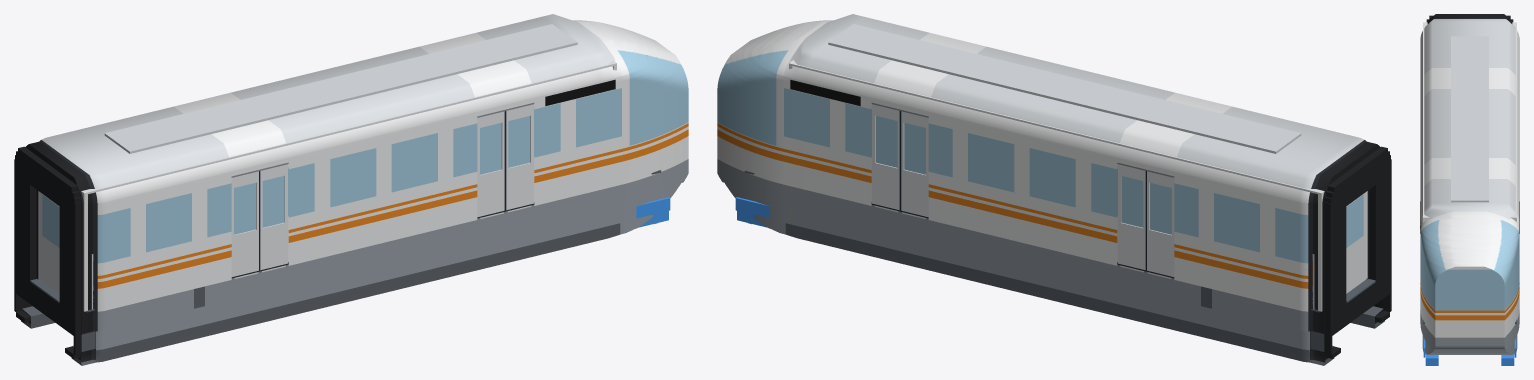
The model's file is linimo_front.obj.
The picture shows the model from 3 angles, left to right: view 1: azimuth 30°, elevation 25°; view 2: azimuth 150°, elevation 25°; view 3: azimuth 270°, elevation 25°; orthographic projection. The views are drawn at different scales.
Visible parts, largest first — view 1: SHELL, SHELL_roof, SHELL_diaphragm, EXTERNAL_DOOR_9_CG_DR2_TOGGLE_TL_-0.59_X, EXTERNAL_DOOR_3_CG_DR1_TOGGLE_TL_-0.59_X, EXTERNAL_DOOR_4_CG_DR1_TOGGLE_TL_0.59_X, EXTERNAL_DOOR_10_CG_DR2_TOGGLE_TL_0.59_X, CONNECTING_DOOR_1_CG_CR_TOGGLE_TL_0.98_Z, SHELL_ceiling, SHELL_end, SHELL_sign, BOGEY_FRONT; view 2: SHELL, SHELL_roof, SHELL_diaphragm, EXTERNAL_DOOR_12_CG_DL2_TOGGLE_TL_-0.59_X, EXTERNAL_DOOR_6_CG_DL1_TOGGLE_TL_-0.59_X, EXTERNAL_DOOR_7_CG_DL1_TOGGLE_TL_0.59_X, EXTERNAL_DOOR_13_CG_DL2_TOGGLE_TL_0.59_X, CONNECTING_DOOR_1_CG_CR_TOGGLE_TL_0.98_Z, SHELL_ceiling, SHELL_end, SHELL_sign, BOGEY_FRONT; view 3: SHELL, SHELL_roof, SHELL_ceiling, BOGEY_FRONT.
Boxes of the visible parts, x1,y1,x2,y2 form: SHELL: [21, 14, 688, 365]; SHELL_roof: [104, 24, 577, 153]; SHELL_diaphragm: [14, 146, 81, 358]; EXTERNAL_DOOR_9_CG_DR2_TOGGLE_TL_-0.59_X: [477, 111, 506, 217]; EXTERNAL_DOOR_3_CG_DR1_TOGGLE_TL_-0.59_X: [231, 171, 260, 276]; EXTERNAL_DOOR_4_CG_DR1_TOGGLE_TL_0.59_X: [260, 164, 287, 270]; EXTERNAL_DOOR_10_CG_DR2_TOGGLE_TL_0.59_X: [506, 104, 533, 210]; CONNECTING_DOOR_1_CG_CR_TOGGLE_TL_0.98_Z: [40, 192, 59, 293]; SHELL_ceiling: [84, 62, 613, 194]; SHELL_end: [38, 190, 87, 311]; SHELL_sign: [545, 79, 615, 106]; BOGEY_FRONT: [635, 197, 670, 228]; SHELL: [717, 14, 1384, 365]; SHELL_roof: [828, 24, 1301, 153]; SHELL_diaphragm: [1324, 146, 1391, 358]; EXTERNAL_DOOR_12_CG_DL2_TOGGLE_TL_-0.59_X: [899, 111, 928, 217]; EXTERNAL_DOOR_6_CG_DL1_TOGGLE_TL_-0.59_X: [1145, 171, 1174, 276]; EXTERNAL_DOOR_7_CG_DL1_TOGGLE_TL_0.59_X: [1118, 164, 1145, 270]; EXTERNAL_DOOR_13_CG_DL2_TOGGLE_TL_0.59_X: [872, 104, 899, 210]; CONNECTING_DOOR_1_CG_CR_TOGGLE_TL_0.98_Z: [1346, 192, 1365, 293]; SHELL_ceiling: [792, 62, 1321, 194]; SHELL_end: [1318, 190, 1367, 311]; SHELL_sign: [790, 79, 860, 106]; BOGEY_FRONT: [735, 197, 770, 228]; SHELL: [1420, 14, 1519, 354]; SHELL_roof: [1451, 36, 1488, 202]; SHELL_ceiling: [1423, 23, 1516, 216]; BOGEY_FRONT: [1423, 337, 1516, 365].
Bounding box in the file's own units: 14.15 × 4.03 × 2.62.
Materials: 1 (1 with a texture image).
